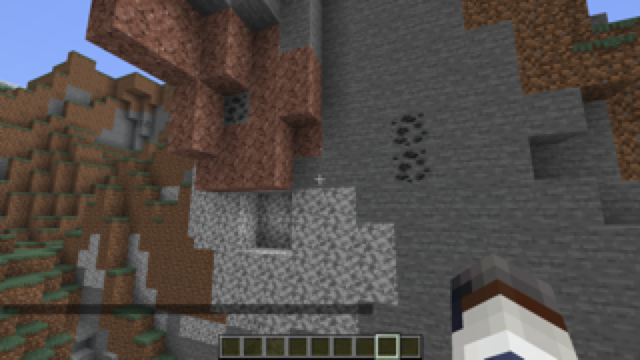coal: (388, 108, 433, 183), (221, 92, 250, 126)
